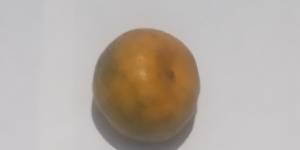BAD: (93, 31, 201, 140)
